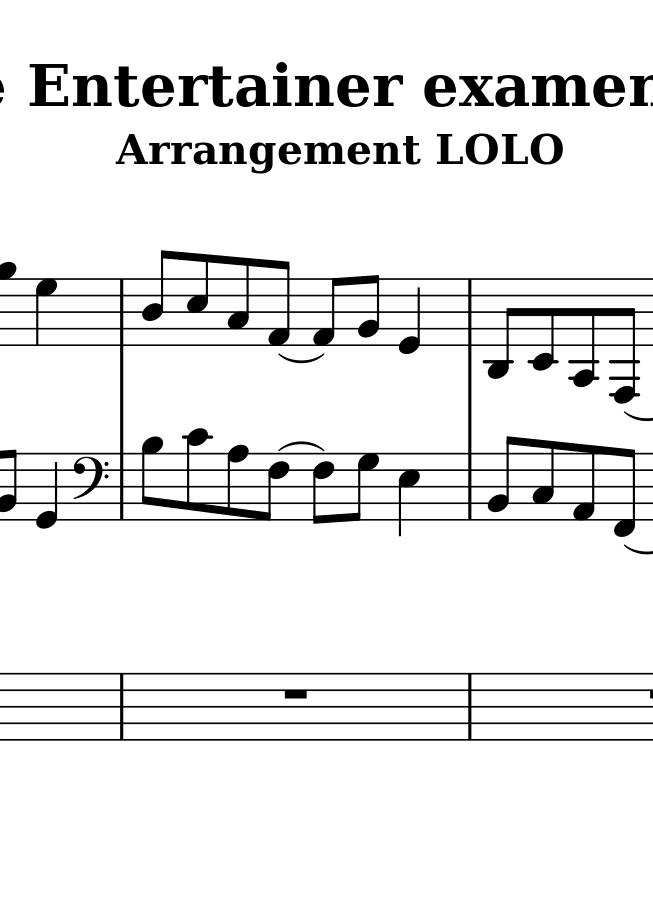4_0: (31, 451, 60, 531), (397, 275, 425, 356)
4_7: (34, 278, 57, 349)
8_-1: (612, 447, 639, 537)
8_-2: (529, 277, 557, 373)
8_-3: (485, 277, 520, 380)
8_-4: (570, 275, 598, 389)
8_-6: (611, 277, 639, 405)
8_1: (267, 259, 292, 349), (313, 276, 343, 349), (571, 442, 597, 523)
8_10: (183, 427, 209, 522)
8_2: (485, 434, 520, 525), (356, 274, 380, 347)
8_3: (226, 257, 254, 350), (531, 439, 558, 523)
8_4: (141, 250, 173, 347)
8_5: (185, 253, 211, 349), (396, 452, 422, 538)
8_6: (259, 450, 291, 523), (311, 451, 337, 526)
8_7: (345, 451, 380, 523)
8_8: (226, 444, 250, 523)
8_9: (139, 435, 166, 522)
Fclef: (71, 450, 108, 522)
Rests1: (278, 685, 315, 701)
Single_barline: (461, 275, 477, 348), (113, 674, 129, 739), (463, 451, 478, 520), (463, 671, 477, 741), (114, 278, 128, 345), (115, 449, 128, 521)
Slur: (278, 440, 323, 454), (276, 352, 326, 364)
